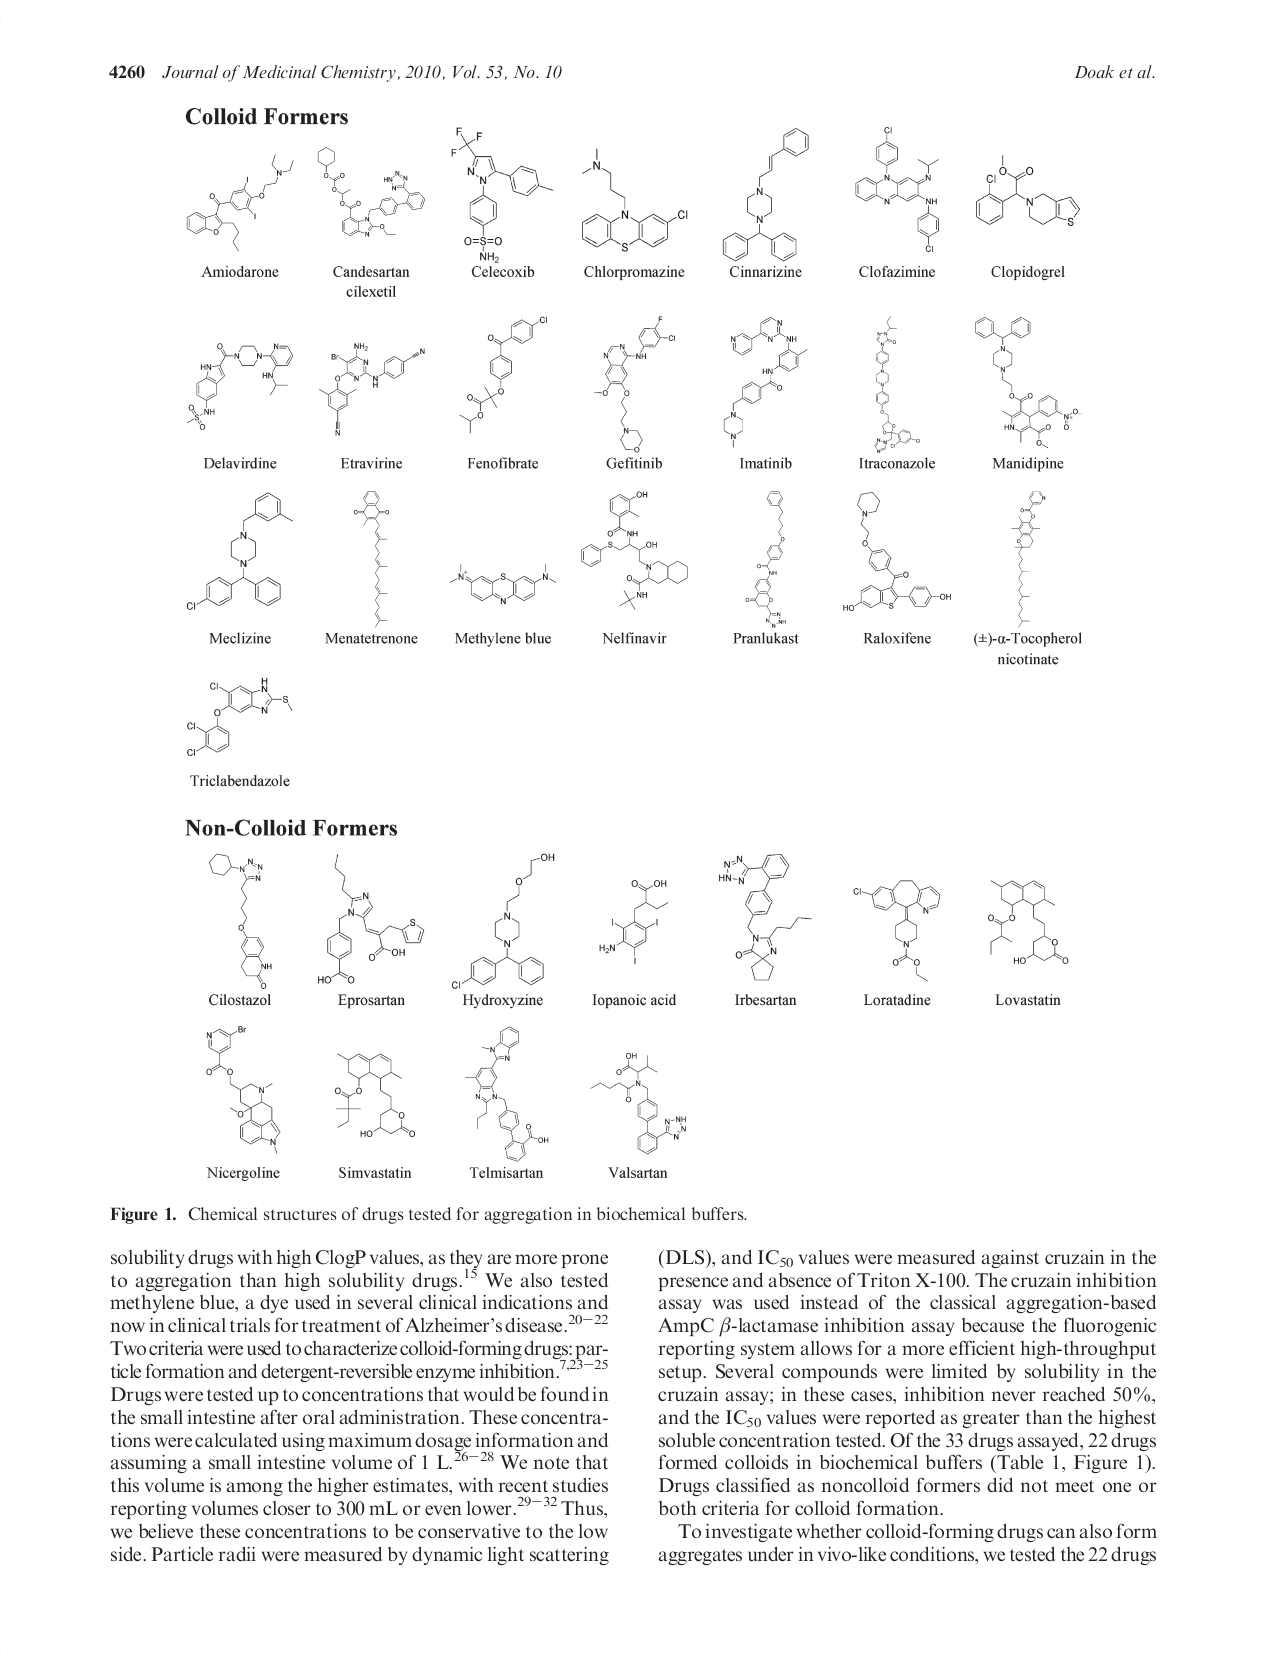exist_molecular: (452, 850, 559, 993), (972, 314, 1082, 451), (449, 125, 555, 263), (316, 852, 424, 987), (842, 489, 953, 616), (185, 489, 295, 617), (580, 489, 689, 610), (719, 124, 813, 261), (715, 851, 813, 981), (463, 1025, 551, 1162), (719, 315, 809, 449), (578, 145, 688, 253), (592, 314, 676, 453), (182, 153, 295, 254), (460, 313, 551, 434), (855, 125, 939, 255), (314, 144, 427, 239), (201, 1023, 282, 1154), (588, 1051, 688, 1156), (319, 342, 428, 436), (186, 342, 298, 432), (850, 876, 942, 984), (207, 851, 274, 989), (184, 676, 293, 757), (975, 152, 1081, 230), (868, 313, 922, 455), (987, 876, 1069, 967), (334, 1049, 416, 1138), (743, 487, 789, 630), (598, 874, 669, 965), (350, 488, 394, 630), (1007, 489, 1049, 630), (445, 556, 559, 606)
